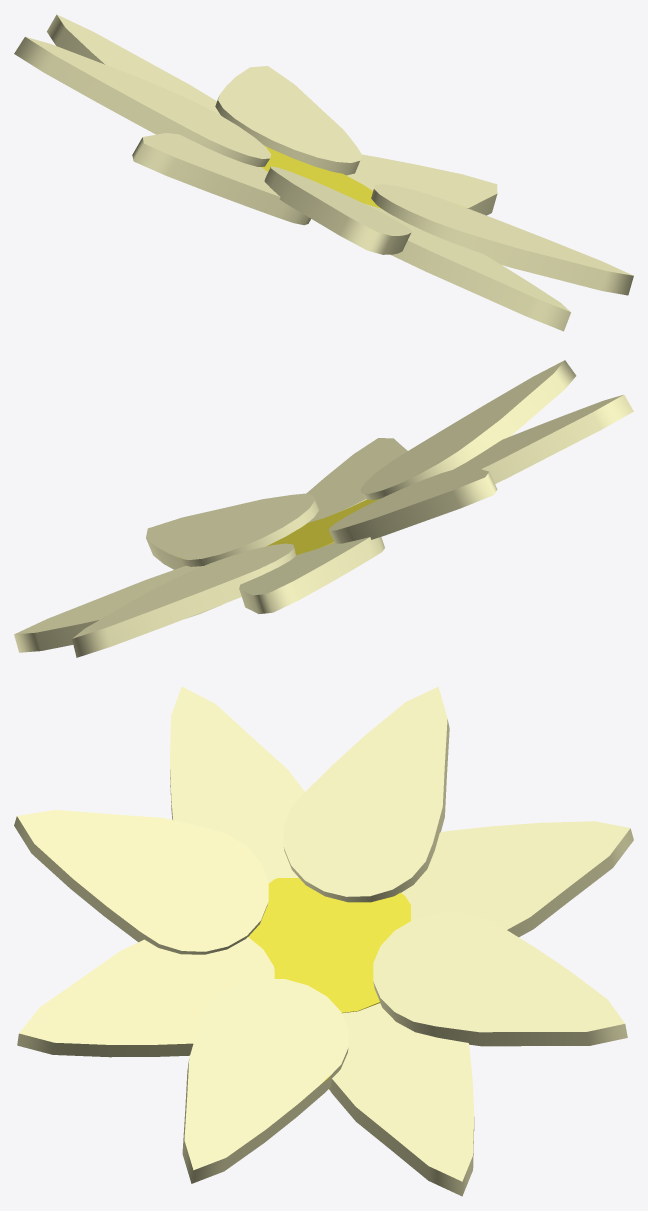
Rendered from FlowerBloom.fbx.
3 views of the same model, one above another, from view 1: azimuth 30°, elevation 25°; view 2: azimuth 150°, elevation 25°; view 3: azimuth 270°, elevation 25° (orthographic). The views are drawn at different scales.
Visible parts, largest first — view 1: FlowerBloom; view 2: FlowerBloom; view 3: FlowerBloom.
Part boxes in pixels (x1,y1,x2,y2): FlowerBloom: (14, 14, 633, 331); FlowerBloom: (14, 360, 633, 657); FlowerBloom: (14, 686, 633, 1196).
Bounding box in the file's own units: 12.92 × 7.11 × 14.08.
Materials: 1 (1 with a texture image).
